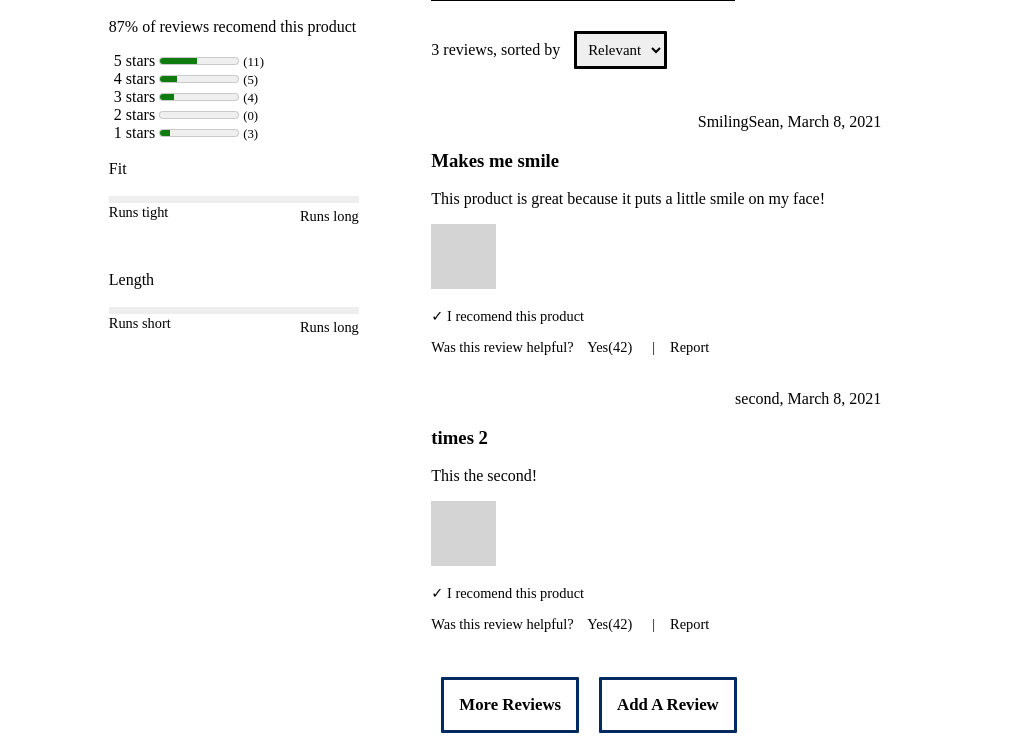
Test: NewReviewModal should have name of product in Review About heading
(page scrolled)
Click the button "Add A Review".
click(668, 705)  # box left=599, top=677, right=737, bottom=733
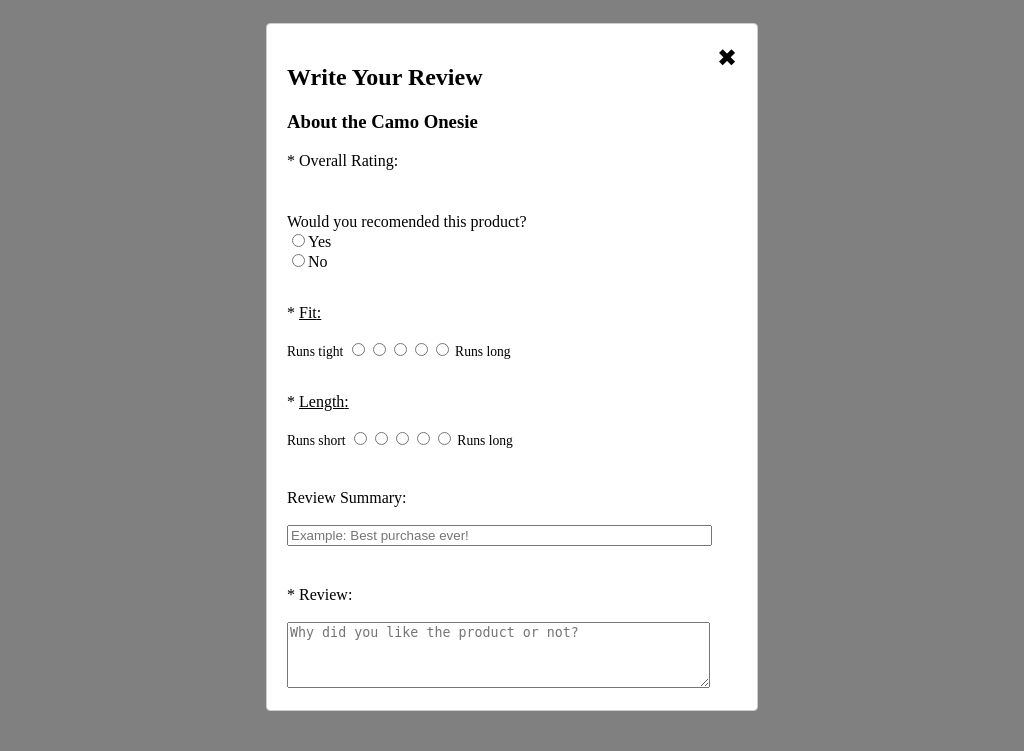
Expected: the heading with test id "reviewAbout" reads "About the Camo Onesie", left=287, top=111, right=478, bottom=132
